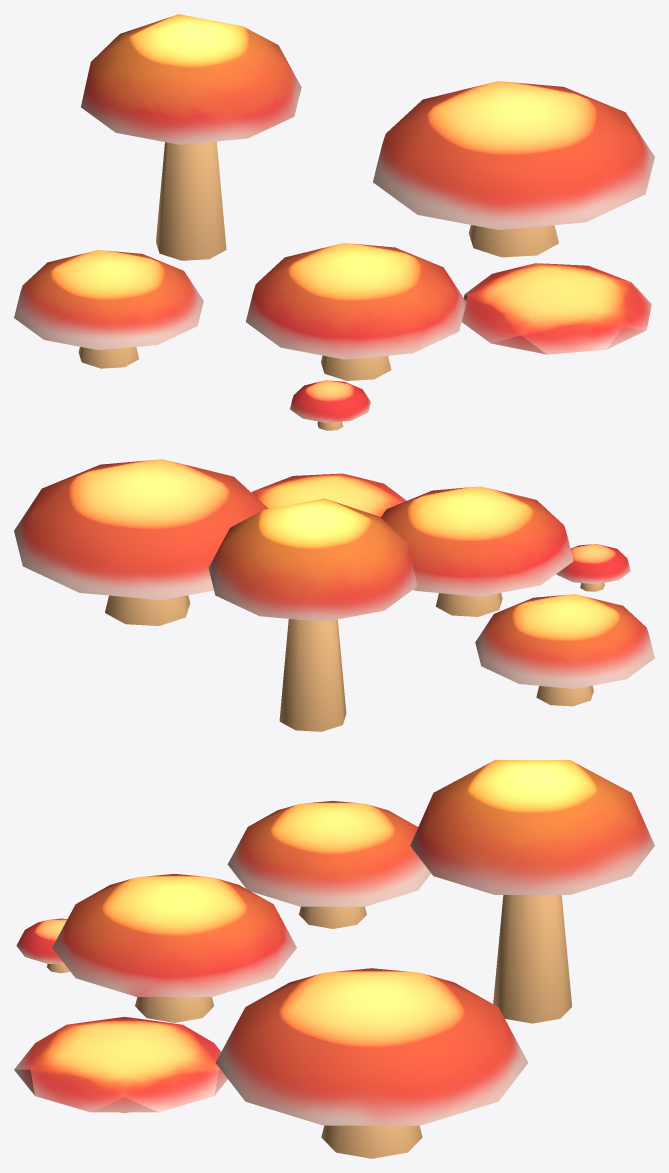
File: redmush.fbx
The picture shows the model from 3 angles, top to bottom: view 1: azimuth 30°, elevation 25°; view 2: azimuth 150°, elevation 25°; view 3: azimuth 270°, elevation 25°; orthographic projection. The views are drawn at different scales.
Visible parts, largest first — view 1: Icosphere.004.frozen, Cube.004.frozen; view 2: Icosphere.004.frozen, Cube.004.frozen; view 3: Icosphere.004.frozen, Cube.004.frozen.
Boxes of the visible parts, bbox=[...] form: Icosphere.004.frozen: bbox=[14, 14, 654, 422]; Cube.004.frozen: bbox=[78, 141, 558, 430]; Icosphere.004.frozen: bbox=[14, 459, 654, 688]; Cube.004.frozen: bbox=[105, 583, 604, 731]; Icosphere.004.frozen: bbox=[14, 760, 654, 1125]; Cube.004.frozen: bbox=[47, 895, 572, 1158].
Bounding box in the file's own units: 220 × 73.93 × 181.
1 material, 1 textured.
